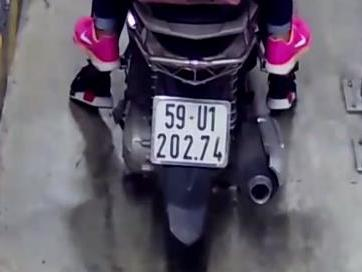num_plate: (153, 96, 230, 168)
